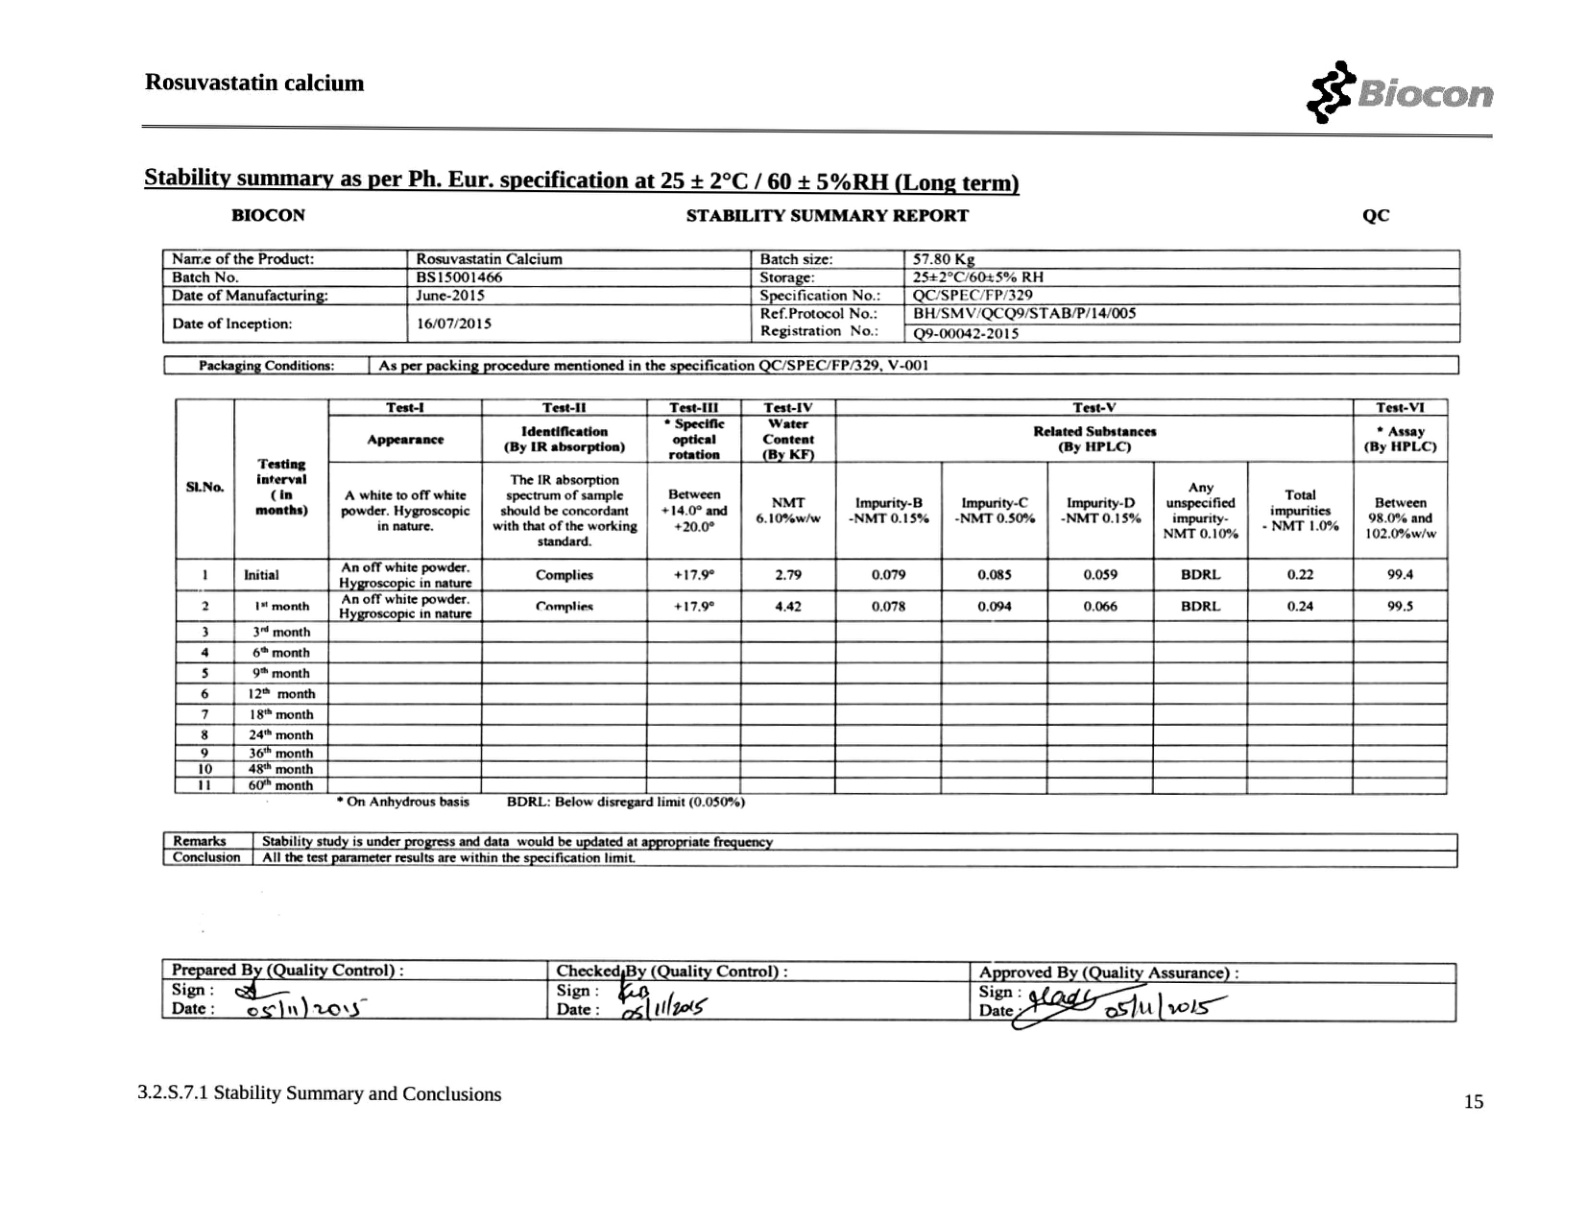full_lined: (161, 958, 1460, 1023), (161, 829, 1459, 869), (162, 354, 1460, 375)
merged_cells: (174, 397, 1448, 796), (161, 248, 1461, 345)
